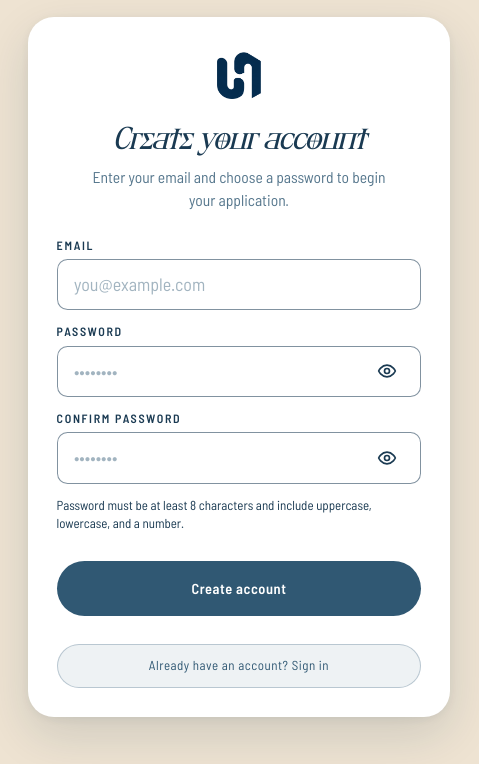
Test: SignInPage with Convex auth: sign up and verification › shows the invalid-code error when the server does not start a session and stays on the step
The width and height of the screenshot is (479, 764).
Type " New@Example.COM " into the field labelled "Email" at (239, 285), box [57,259,421,310]
Type "Hackuta1" into the password field labelled "Password" at (239, 371), box [57,346,421,397]
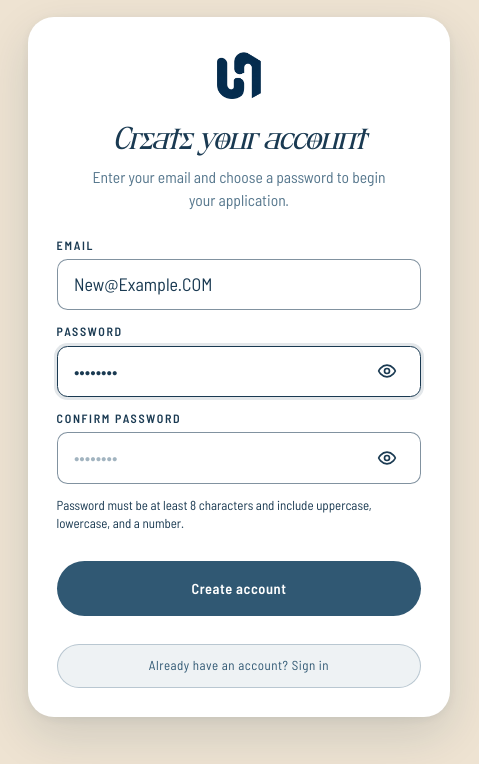
Type "Hackuta1" into the password field labelled "Confirm password" at (239, 458), box [57,432,421,484]
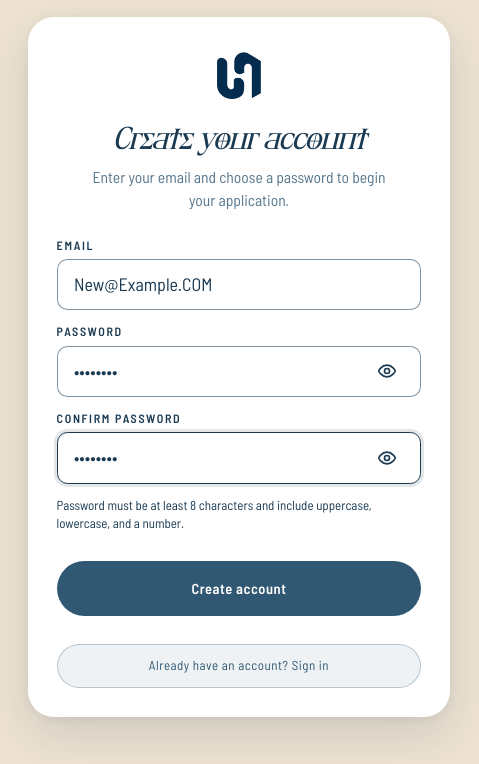
Click the button "Create account" at (239, 589), box [57,561,421,616]
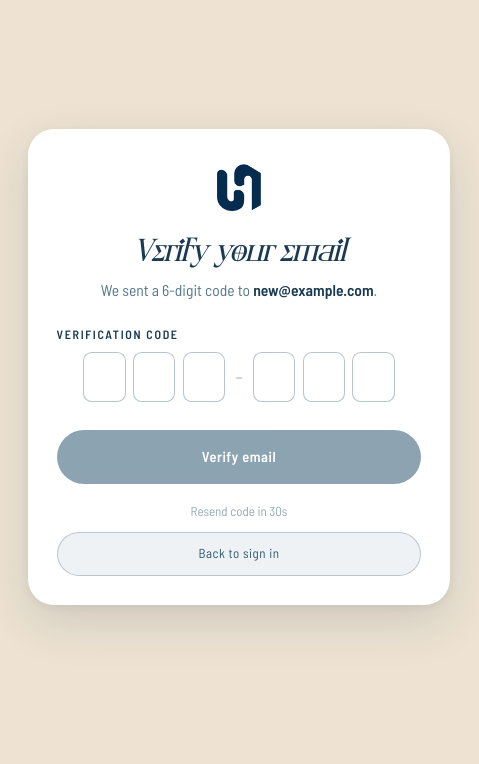
Check: the heading "Verify your email" is shown, box [133,235,345,268]
Click the 1st field labelled "Verification code" at (105, 377), box [83,352,126,402]
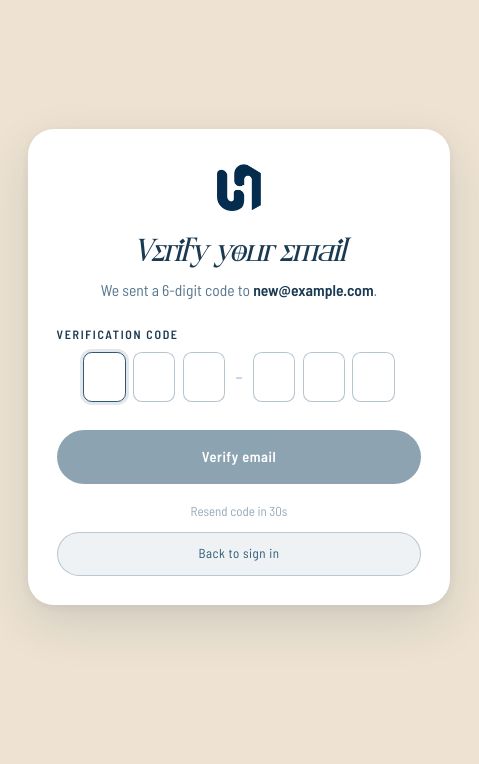
Type keys "123456"
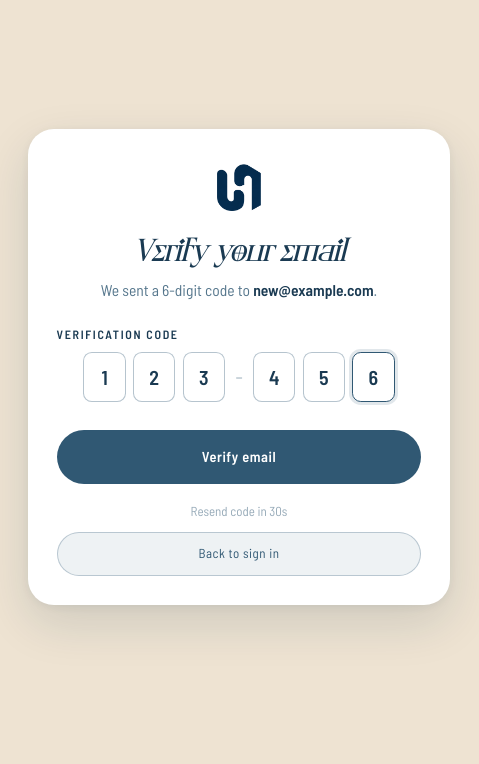
Click the button "Verify email" at (239, 457), box [57,430,421,484]
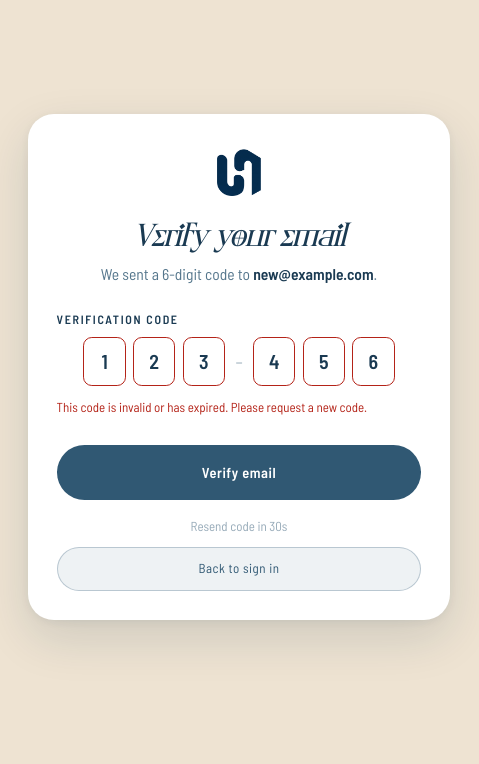
Check: the heading "Verify your email" is shown, box [133,220,345,253]
Check: the message reads "This code is invalid or has expired. Please request a new code.", box [57,399,367,415]
